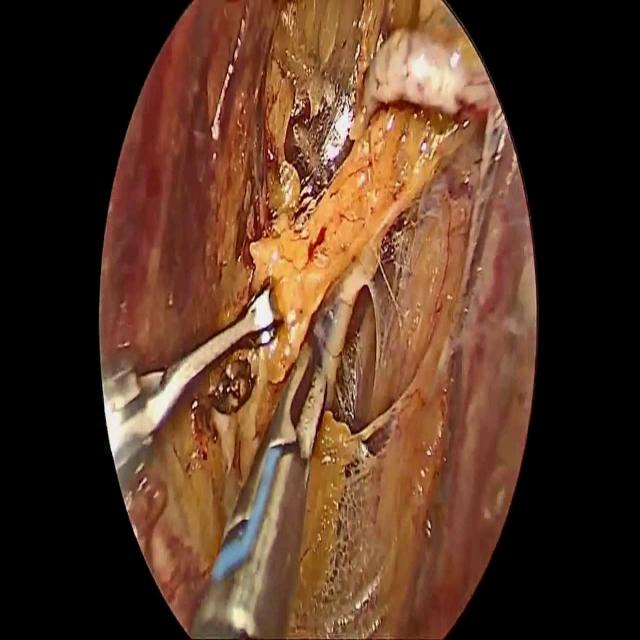surgical-area: (100, 0, 536, 639)
surgical-tool: (190, 340, 328, 639), (102, 284, 282, 497)
